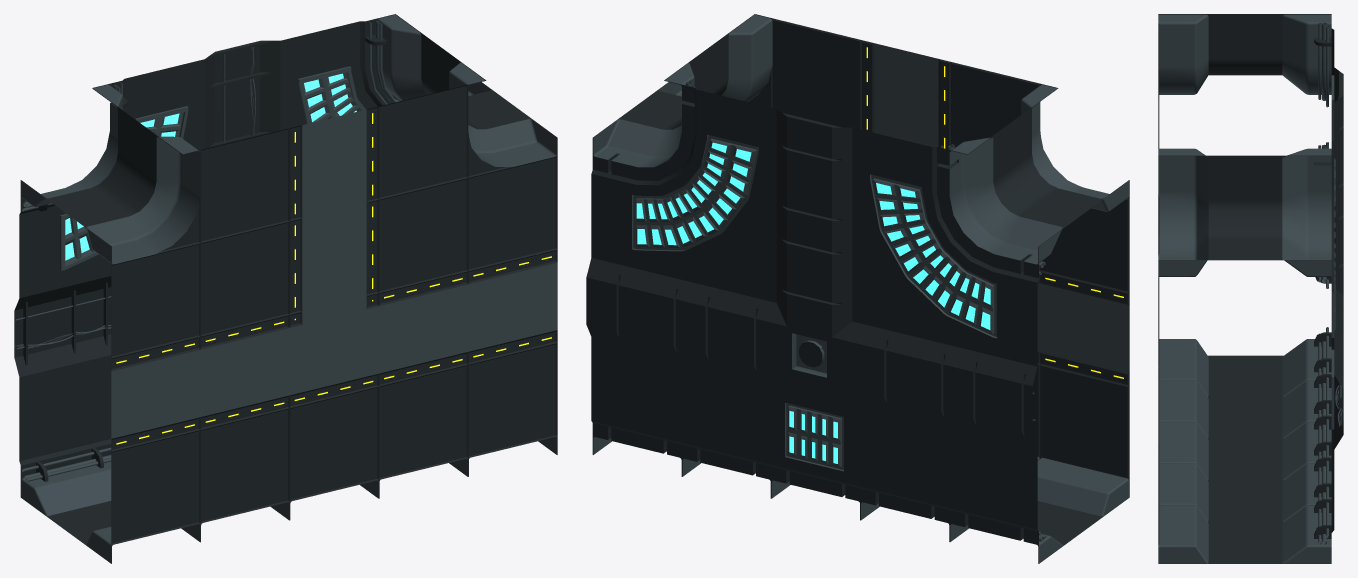
The model's file is hallwayDouble90.fbx.
The picture shows the model from 3 angles, left to right: view 1: azimuth 30°, elevation 25°; view 2: azimuth 150°, elevation 25°; view 3: azimuth 270°, elevation 25°; orthographic projection. The views are drawn at different scales.
Parts seen in each view (by area): view 1: hallwayDouble90; view 2: hallwayDouble90; view 3: hallwayDouble90.
Part boxes in pixels (x1,y1,x2,y2): hallwayDouble90: [14, 14, 557, 563]; hallwayDouble90: [586, 14, 1129, 563]; hallwayDouble90: [1158, 14, 1343, 563].
Size of what is drawn, in the model's own units: 10 by 3.77 by 8.4.
